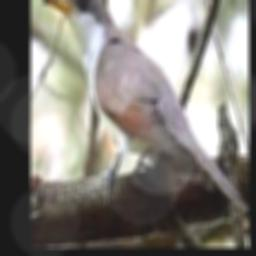Cuckoo: (44, 0, 248, 214)
